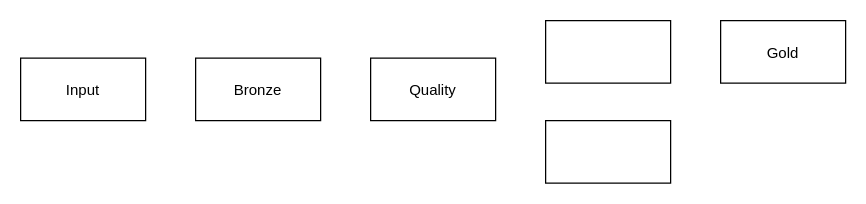
Some shapes in this 866 by 204 pixel diagram are drawn without their labels. Each missing label, with the centre of its shape:
"Quarantine" belongs at [607,151].
"Silver" belongs at [607,51].
